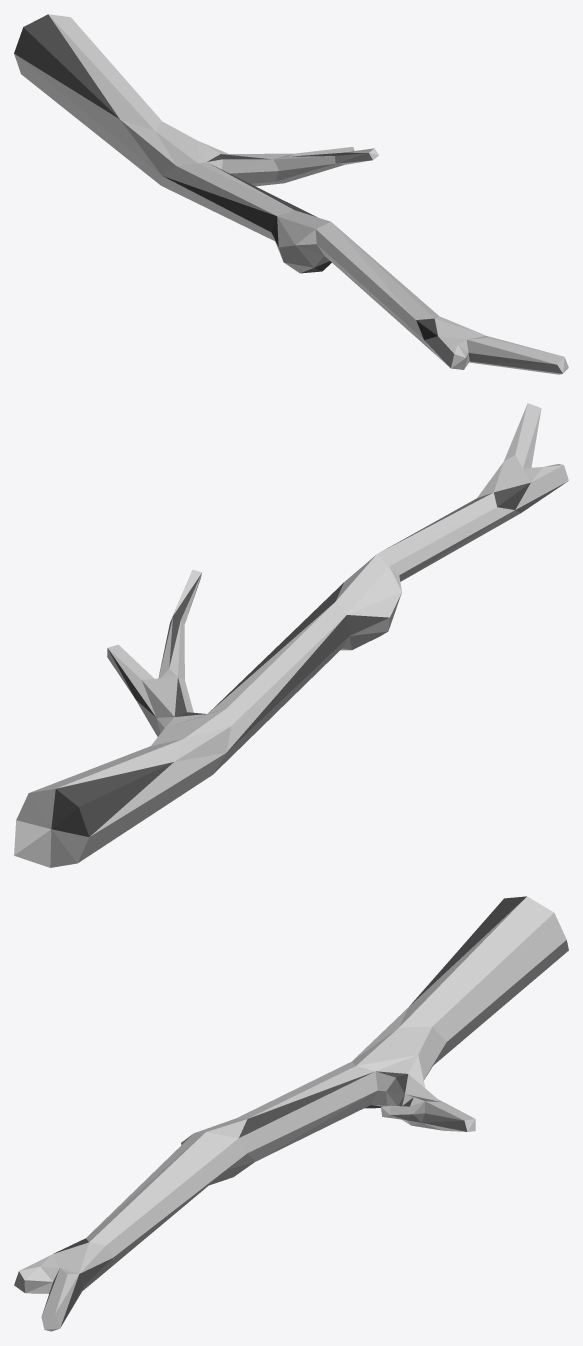
The model's file is mesh_branch_birch_01.fbx.
3 views of the same model, one above another, from view 1: azimuth 30°, elevation 25°; view 2: azimuth 150°, elevation 25°; view 3: azimuth 330°, elevation 25° (orthographic). The views are drawn at different scales.
Visible parts, largest first — view 1: mesh_branch_birch_01; view 2: mesh_branch_birch_01; view 3: mesh_branch_birch_01.
Part boxes in pixels (x1,y1,x2,y2): mesh_branch_birch_01: [14, 14, 568, 374]; mesh_branch_birch_01: [14, 403, 568, 867]; mesh_branch_birch_01: [14, 896, 568, 1331].
Bounding box in the file's own units: 0.377 × 0.1887 × 1.94.
